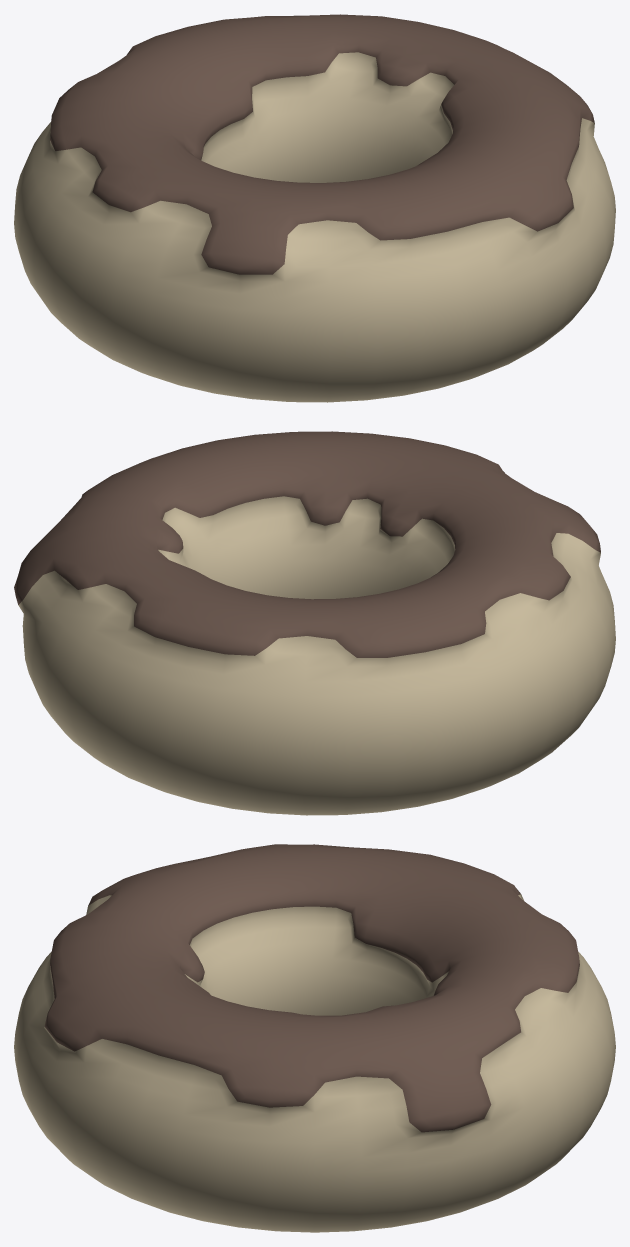
3 renders of one model, top to bottom at view 1: azimuth 30°, elevation 25°; view 2: azimuth 150°, elevation 25°; view 3: azimuth 270°, elevation 25°, orthographic.
Parts seen in each view (by area): view 1: pTorus1; view 2: pTorus1; view 3: pTorus1.
Part boxes in pixels (x1=…): pTorus1: x1=14, y1=14, x2=615, y2=402; pTorus1: x1=14, y1=431, x2=615, y2=815; pTorus1: x1=14, y1=844, x2=615, y2=1232.
Bounding box in the file's own units: 1.64 × 0.5975 × 1.64.
